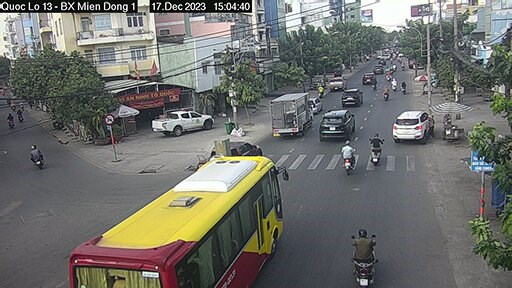bus: (73, 157, 287, 288)
car: (399, 105, 436, 143), (152, 108, 202, 133), (319, 108, 350, 136), (342, 84, 358, 103)
motorbike: (343, 229, 386, 277), (339, 138, 363, 177), (370, 137, 385, 166)
truck: (263, 85, 315, 135)
